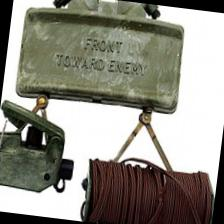MOH-50: (4, 0, 186, 126)
